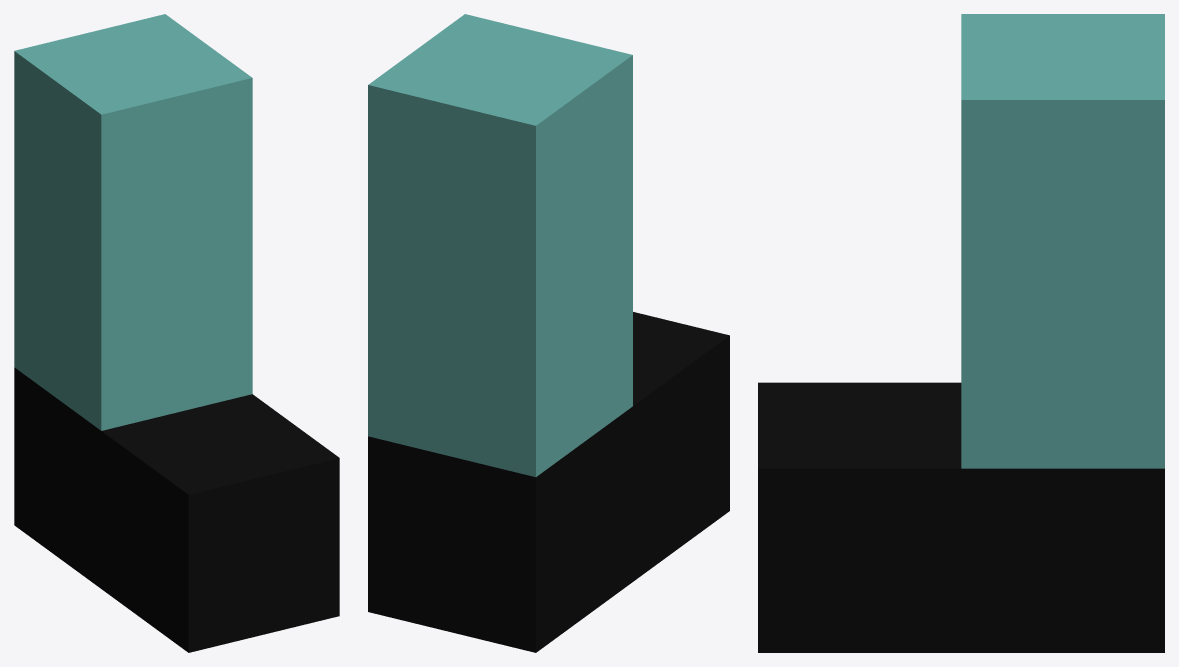
The model's file is people_2-3.obj.
3 views of the same model, side by side, from view 1: azimuth 30°, elevation 25°; view 2: azimuth 150°, elevation 25°; view 3: azimuth 270°, elevation 25° (orthographic). The views are drawn at different scales.
Size of the model in its own units: 0.1 by 0.3 by 0.2.
1 material, 1 textured.
